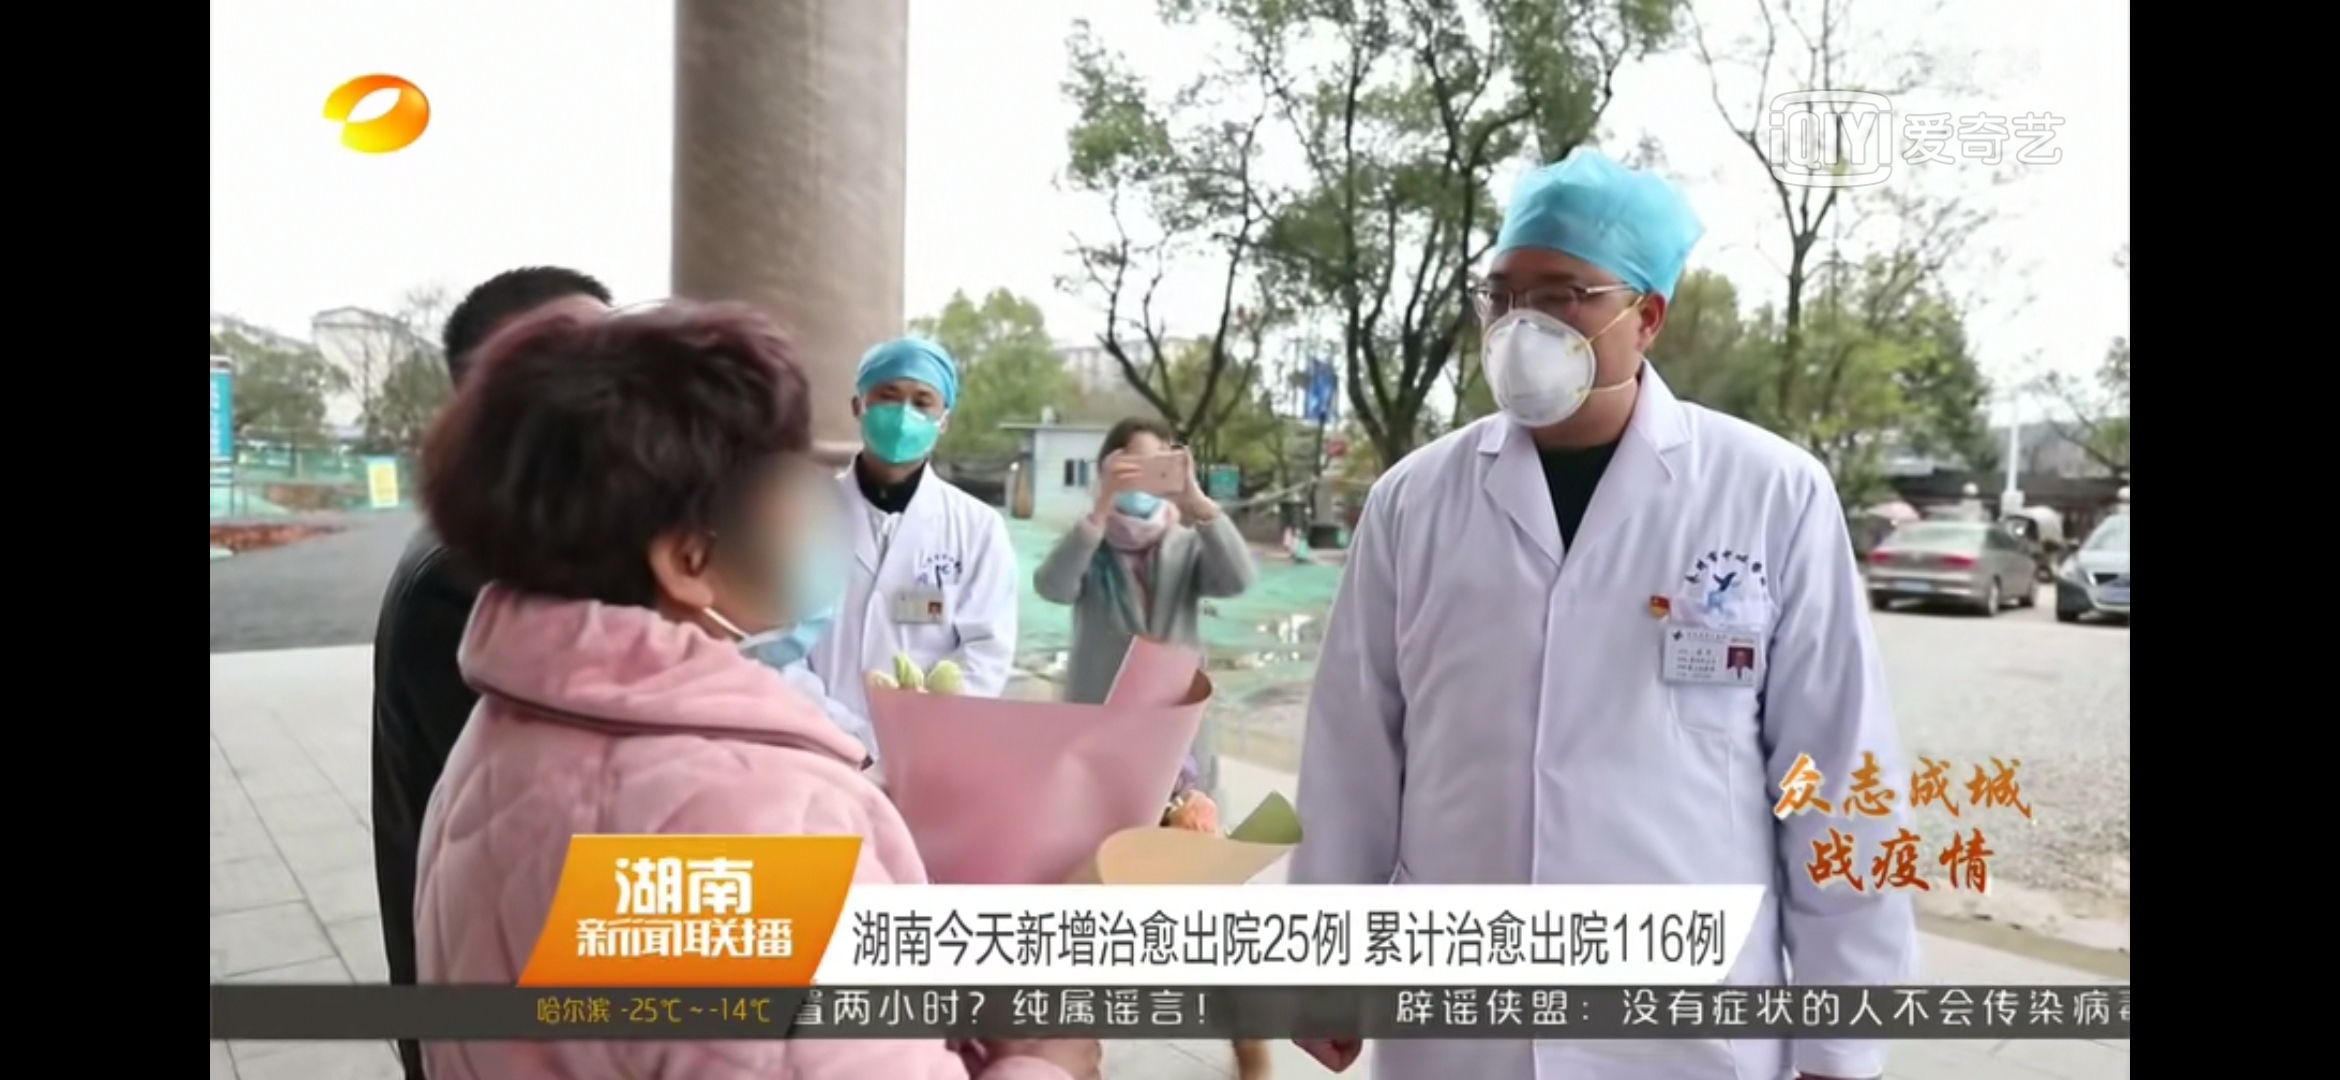correctlyWear: (1476, 267, 1659, 439), (852, 382, 954, 474), (1110, 452, 1171, 518)
